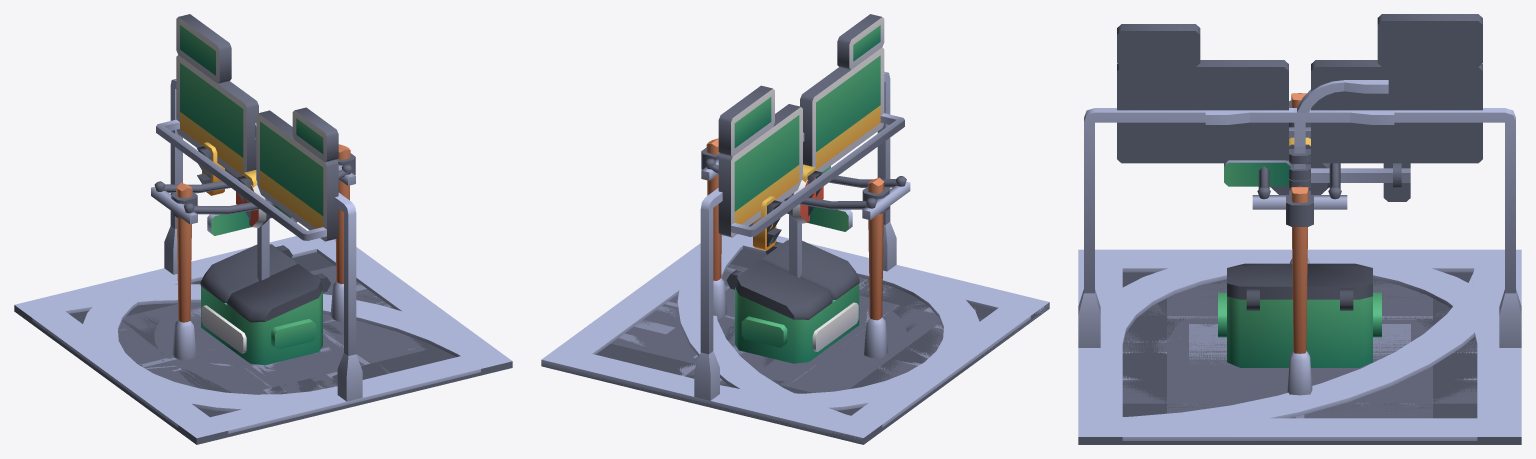
Rendered from roads.glb.
3 renders of one model, left to right at view 1: azimuth 30°, elevation 25°; view 2: azimuth 150°, elevation 25°; view 3: azimuth 270°, elevation 25°, orthographic. The views are drawn at different scales.
Visible parts, largest first — view 1: sign-highway-detailed, road-square, road-straight, road-end-round, road-intersection, electricity-pole, dumpster, sign-highway, road-bend, road-end, road-crossing, lid-right (+7 smaller); view 2: sign-highway-detailed, road-square, road-end-round, road-end, road-straight, electricity-pole, dumpster, road-bend, road-intersection, sign-highway, lid-left, road-crossroad (+9 smaller); view 3: sign-highway, road-square, road-end-round, road-straight, road-bend, sign-highway-detailed, dumpster, road-crossing, electricity-pole, road-crossroad, road-intersection-path, road-intersection (+11 smaller).
Boxes of the visible parts, x1,y1,x2,y2 form: sign-highway-detailed: (156, 14, 362, 401); road-square: (27, 244, 512, 437); road-straight: (16, 236, 509, 437); road-end-round: (82, 236, 478, 411); road-intersection: (14, 241, 512, 444); electricity-pole: (151, 144, 355, 360); dumpster: (201, 245, 330, 365); sign-highway: (156, 89, 362, 401); road-bend: (64, 284, 462, 437); road-end: (27, 244, 429, 436); road-crossing: (70, 264, 455, 417); lid-right: (227, 264, 322, 322); sign-highway-detailed: (694, 14, 904, 400); road-square: (560, 237, 1049, 427); road-end-round: (545, 234, 980, 410); road-end: (566, 240, 1045, 423); road-straight: (544, 234, 1049, 444); electricity-pole: (701, 138, 910, 358); dumpster: (726, 241, 859, 363); road-bend: (677, 234, 1048, 424); road-intersection: (541, 235, 1044, 444); sign-highway: (694, 99, 904, 400); lid-left: (735, 260, 832, 319); road-crossroad: (542, 234, 1045, 443); sign-highway: (1078, 67, 1521, 347); road-square: (1078, 249, 1521, 440); road-end-round: (1078, 250, 1521, 436); road-straight: (1078, 249, 1521, 436); road-bend: (1095, 250, 1516, 435); sign-highway-detailed: (1078, 14, 1520, 315); dumpster: (1218, 288, 1381, 367); road-crossing: (1137, 273, 1463, 418); electricity-pole: (1252, 93, 1347, 395); road-crossroad: (1078, 249, 1521, 436); road-intersection-path: (1123, 292, 1427, 403); road-intersection: (1078, 249, 1521, 444).
Bounding box in the file's own units: 1 × 0.8221 × 1.
1 material, 1 textured.
